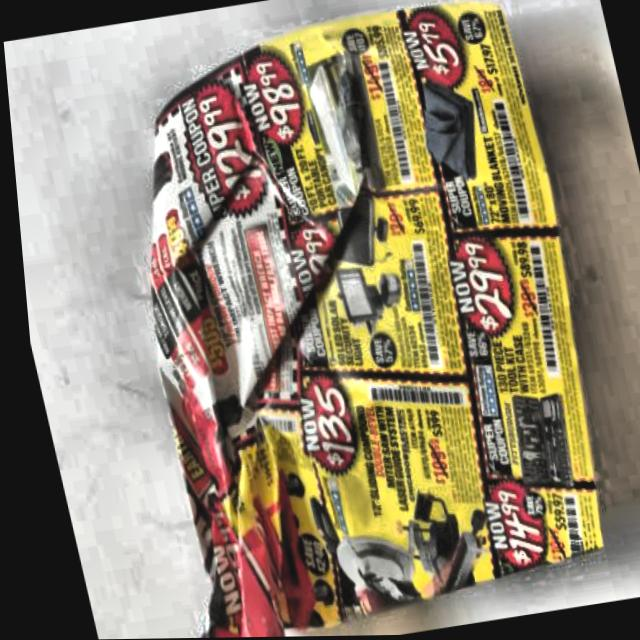Paper: (53, 0, 640, 639)
